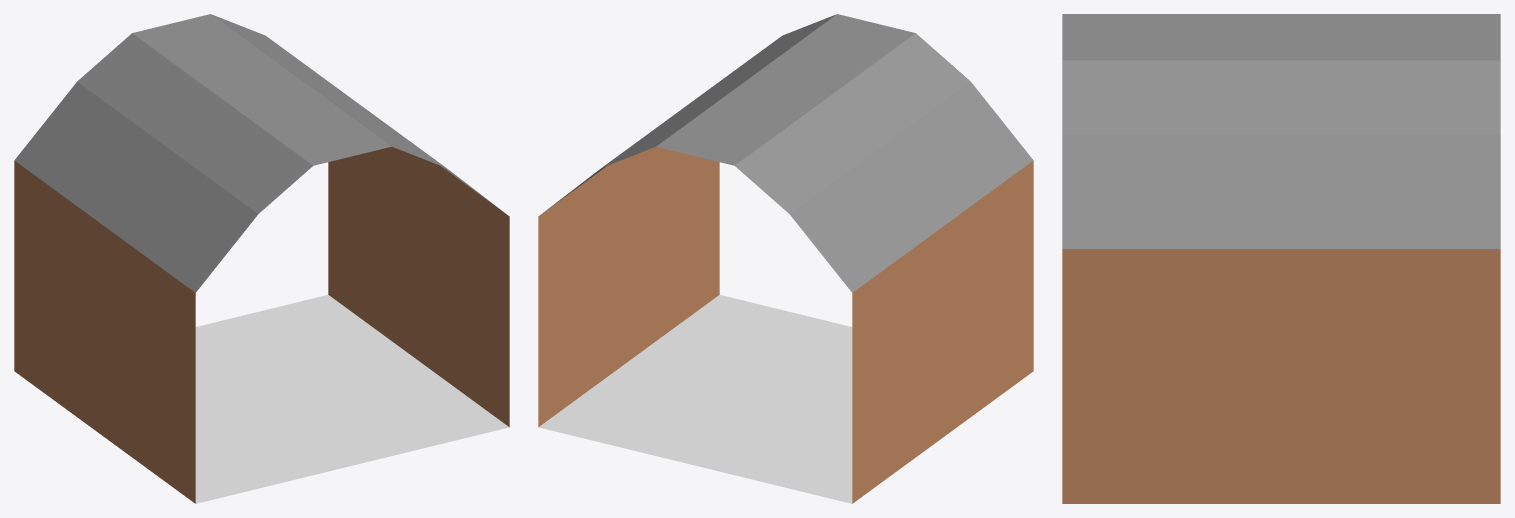
File: trainCarriage.fbx
The picture shows the model from 3 angles, left to right: view 1: azimuth 30°, elevation 25°; view 2: azimuth 150°, elevation 25°; view 3: azimuth 270°, elevation 25°; orthographic projection. The views are drawn at different scales.
Visible parts, largest first — view 1: Cube; view 2: Cube; view 3: Cube.
Boxes of the visible parts, box(x1,y1,x2,y2) form: Cube: box(14, 14, 509, 503); Cube: box(538, 14, 1033, 503); Cube: box(1062, 14, 1500, 503).
Bounding box in the file's own units: 1000 × 942 × 1000.
